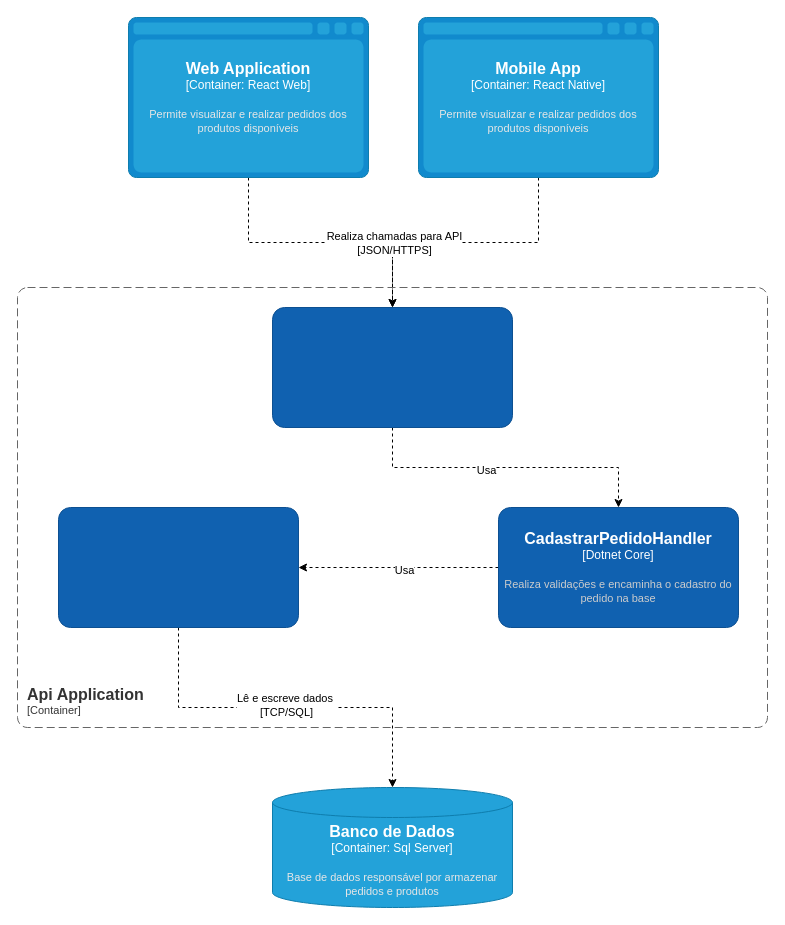
This 785x925 diagram has some shape labels left out. The centre of each missing label's shape, as x and y in pixels:
PedidosController [Dotnet Core] Disponibiliza funções para criar pedidos: [392,367]
PedidosRepositorio [Dotnet Core] Salva o pedido na base de dados: [178,567]
